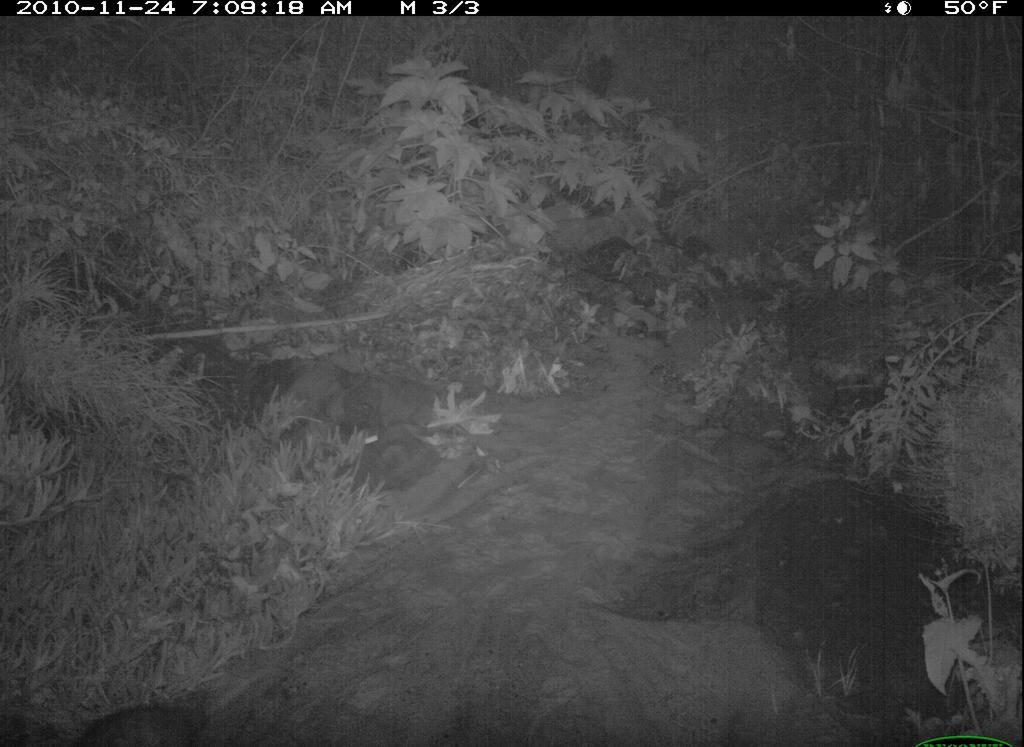opossum: (63, 656, 276, 747)
